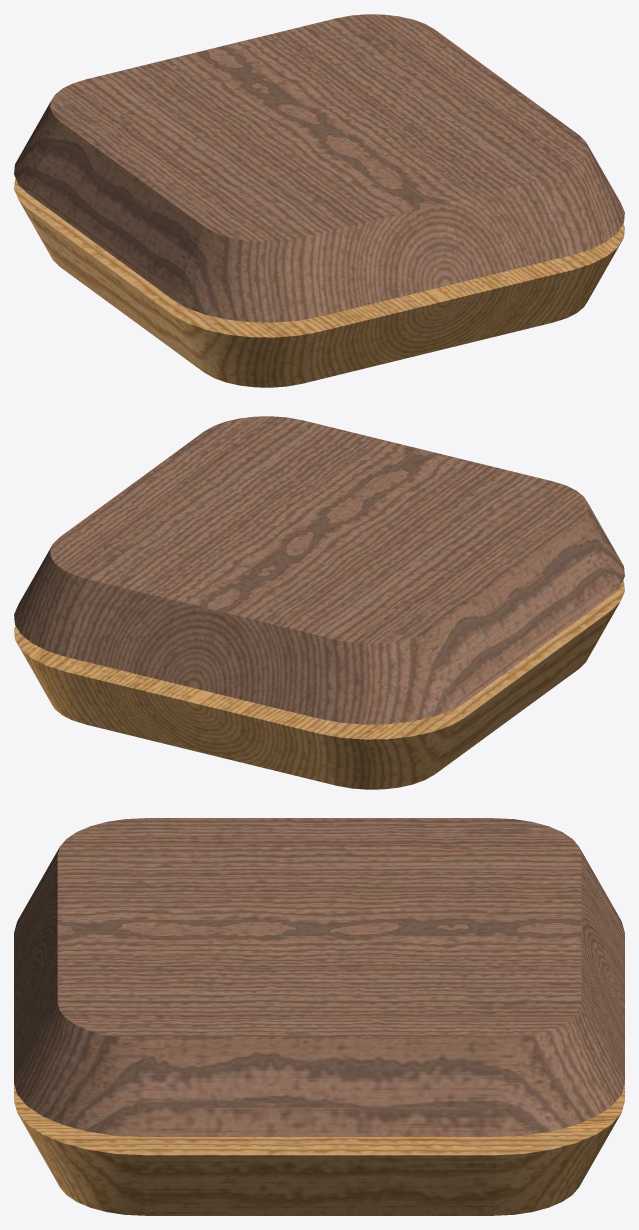
File: Adawiyyah_model_animation.glb
3 views of the same model, one above another, from view 1: azimuth 30°, elevation 25°; view 2: azimuth 150°, elevation 25°; view 3: azimuth 270°, elevation 25° (orthographic). The views are drawn at different scales.
Visible parts, largest first — view 1: Rectangle1001, Rectangle0005; view 2: Rectangle1001, Rectangle0005; view 3: Rectangle1001, Rectangle0005.
Boxes of the visible parts, x1,y1,x2,y2 form: Rectangle1001: [14, 14, 624, 322]; Rectangle0005: [14, 178, 624, 387]; Rectangle1001: [14, 416, 624, 724]; Rectangle0005: [14, 580, 624, 789]; Rectangle1001: [14, 818, 624, 1136]; Rectangle0005: [14, 1083, 624, 1215].
Bounding box in the file's own units: 0.07 × 0.0223 × 0.07.
Materials: 2 (2 with a texture image).
